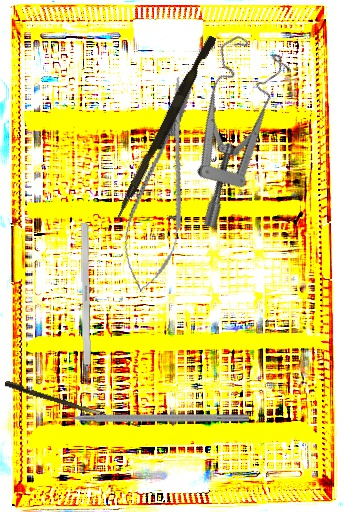Chopper: (46, 403, 249, 422)
Hook Surgical: (3, 380, 144, 428), (80, 222, 92, 400)
Micro Scissor: (112, 72, 214, 298)
Pusher: (114, 32, 217, 224)
Speculum: (128, 22, 323, 233)
